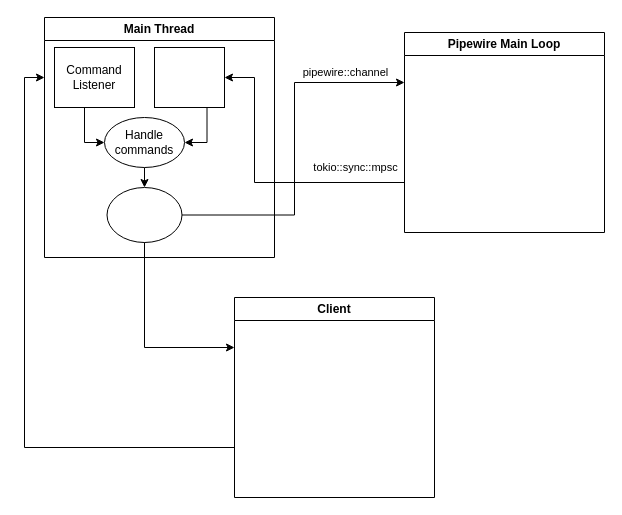
Some shapes in this 622 by 515 pixel diagram are drawn without their labels. Each missing label, with the centre of its shape:
Event Listener: (189,77)
Send responses: (144,214)
